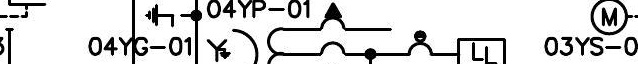115_gs: (143, 3, 184, 28)
